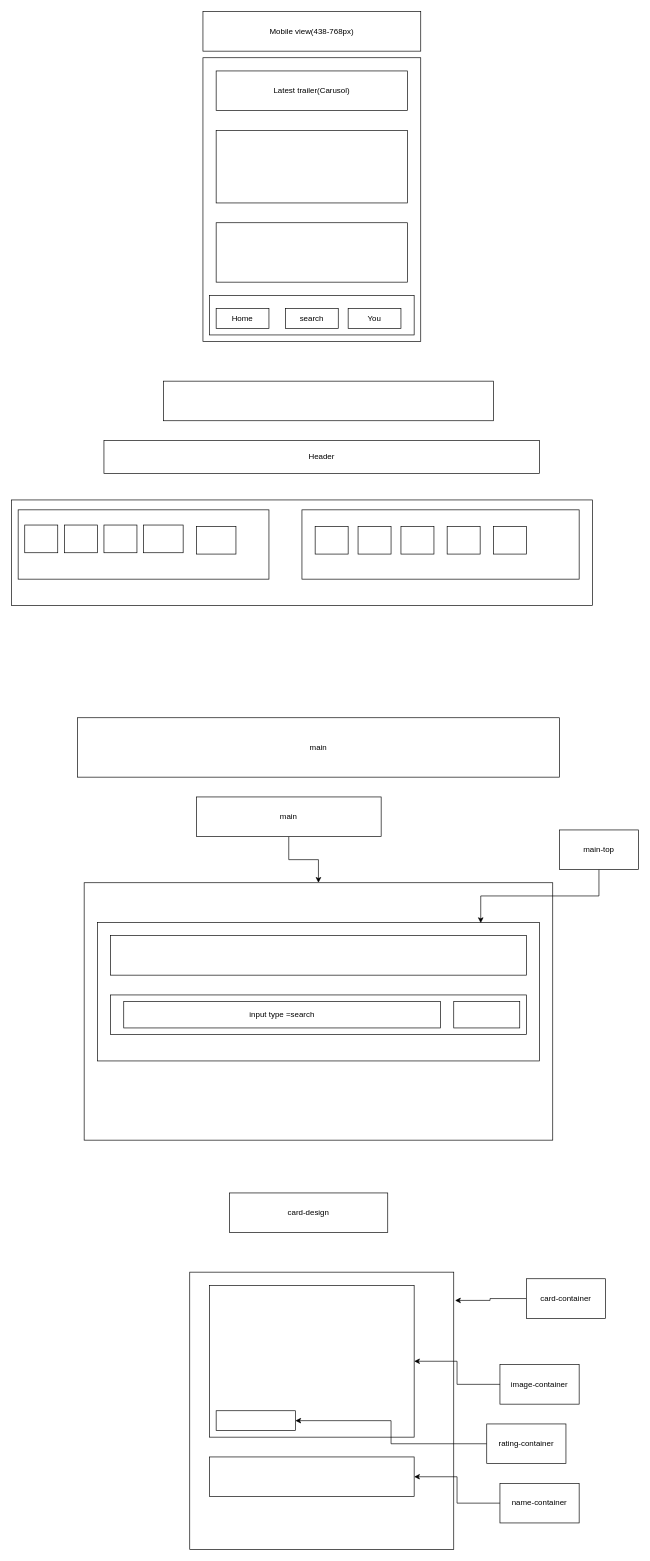
This 650x1561 diagram has some shape labels left out. The centre of each missing label's shape, as x and y in pixels:
"desktop view" belongs at (x=328, y=400).
"Name" belongs at (x=311, y=1476).
"Popular Movies(carusol)" belongs at (x=311, y=166).
"Popular tv series(carusol)" belongs at (x=311, y=252).
"rating" belongs at (x=255, y=1420).
"search button" belongs at (x=486, y=1014).
"text" belongs at (x=318, y=955).
